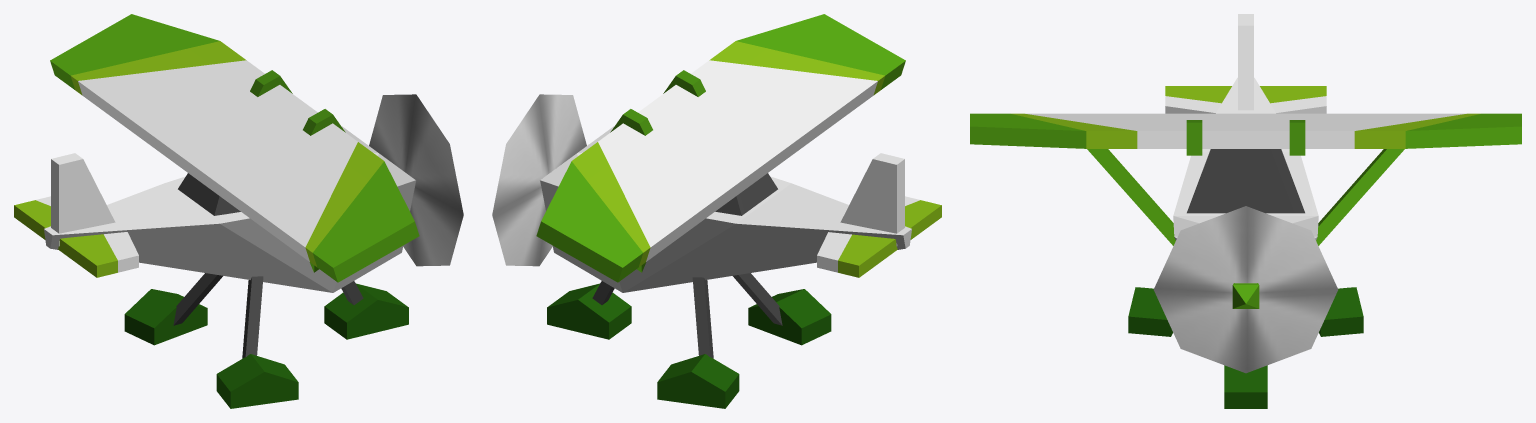
File: touch_object_cash.fbx
The picture shows the model from 3 angles, left to right: view 1: azimuth 30°, elevation 25°; view 2: azimuth 150°, elevation 25°; view 3: azimuth 270°, elevation 25°; orthographic projection. The views are drawn at different scales.
Parts seen in each view (by area): view 1: body, propeller; view 2: body, propeller; view 3: body, propeller.
Boxes of the visible parts, left/top/right/bottom form: body: left=14, top=14, right=419, bottom=408; propeller: left=369, top=94, right=463, bottom=266; body: left=536, top=14, right=941, bottom=408; propeller: left=492, top=94, right=586, bottom=266; body: left=970, top=14, right=1521, bottom=408; propeller: left=1153, top=206, right=1338, bottom=373.
Size of the model in its own units: 4900 by 2908 by 6037.
